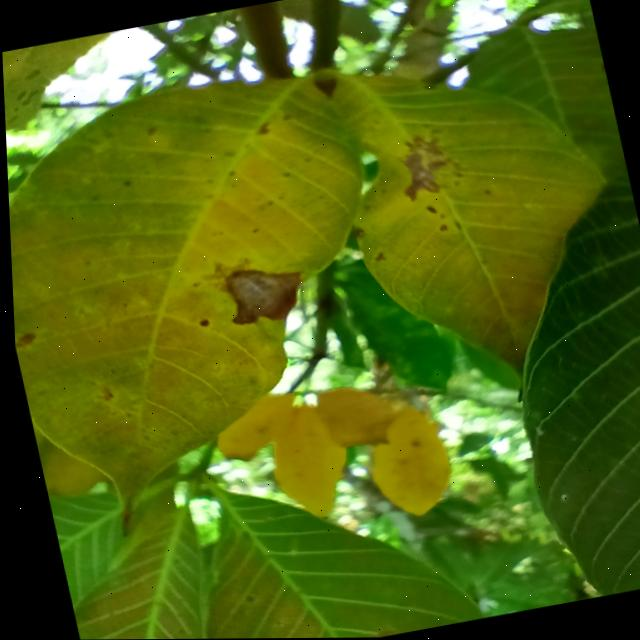Colletotrichum: (195, 317, 208, 328)
Leaf-Blight: (221, 259, 309, 330)
